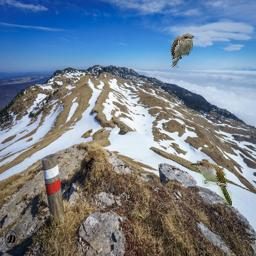Cuckoo: (190, 161, 232, 206), (170, 33, 194, 68)
